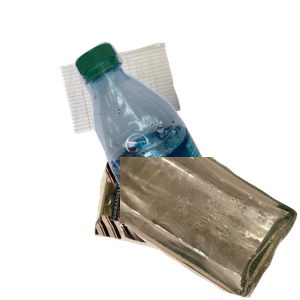glass: (120, 157, 300, 300)
paper: (56, 40, 229, 166)
plastic: (71, 39, 300, 219)
trash: (92, 158, 277, 300)
